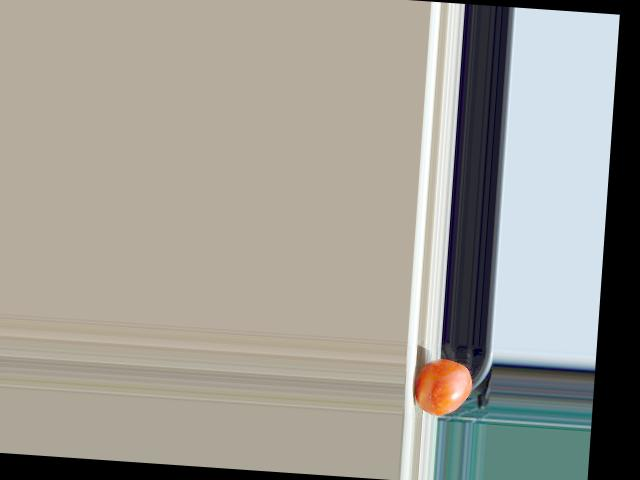tomato: (414, 357, 474, 417)
